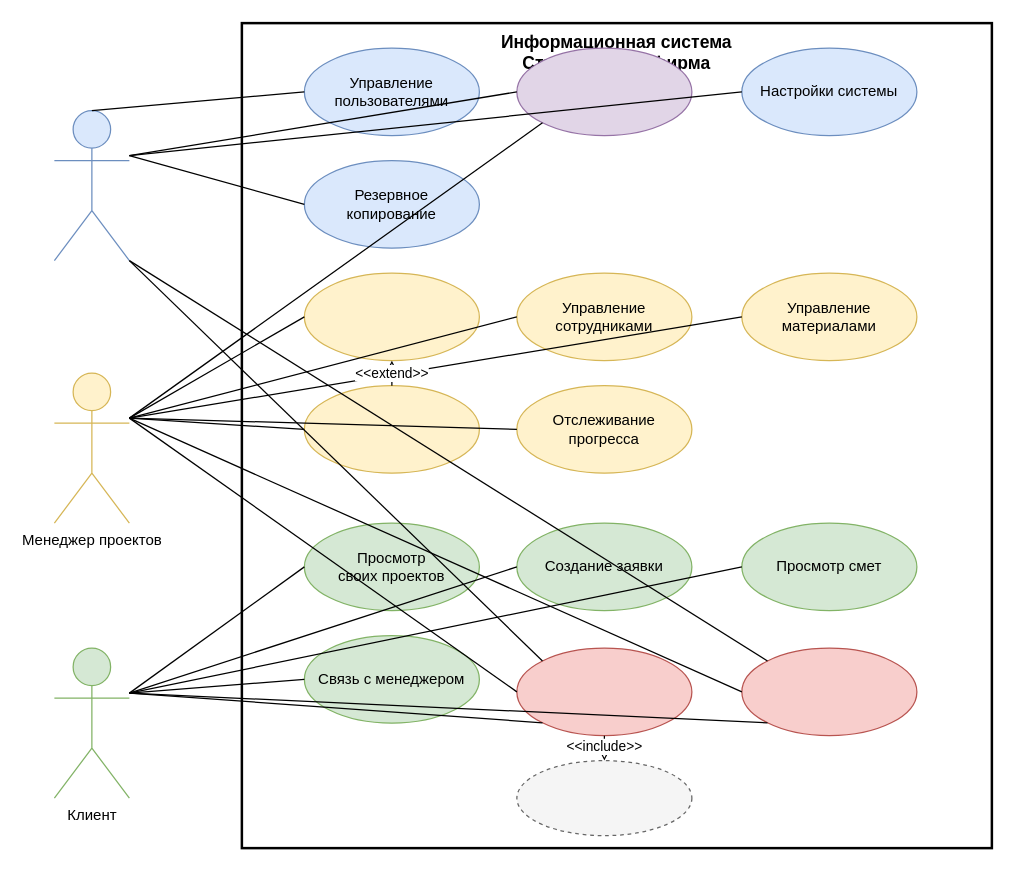
Some shapes in this 1014 by 870 pixel diagram are drawn without their labels. The box of each missing label's shape, as (x1, y1, x2, y2) in pixels:
Администратор: (53, 109, 129, 261)
Аутентификация: (516, 759, 692, 836)
Вход в систему: (516, 647, 692, 736)
Назначение работников на проект: (303, 384, 479, 473)
Просмотр отчетов: (516, 47, 692, 136)
Редактирование профиля: (741, 647, 917, 736)
Управление проектами: (303, 272, 479, 361)
